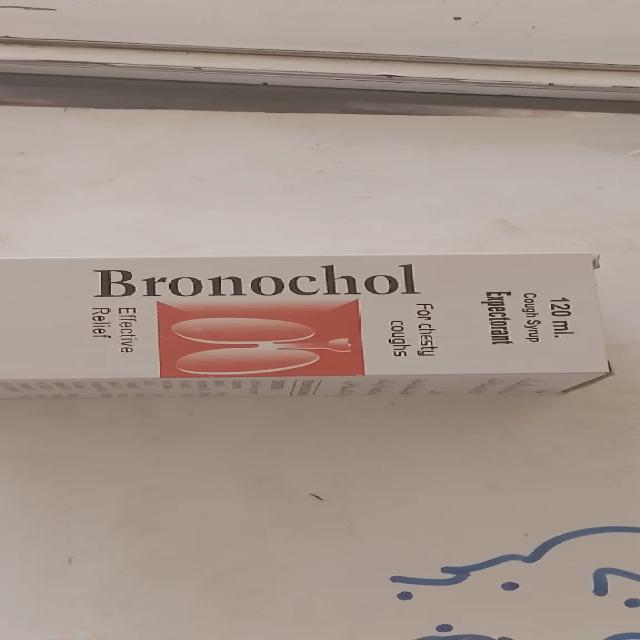drug-name: (83, 262, 426, 300)
